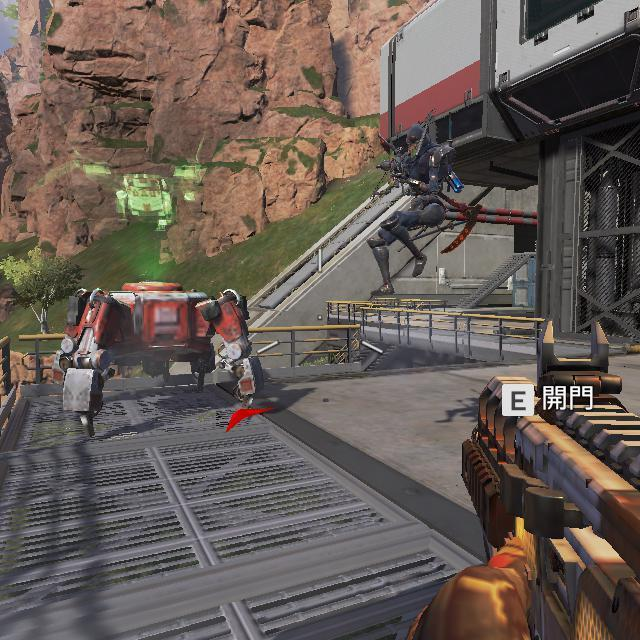avatar: (365, 124, 447, 298)
